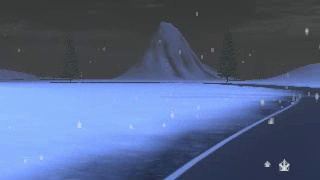Lane: (170, 83, 319, 179)
